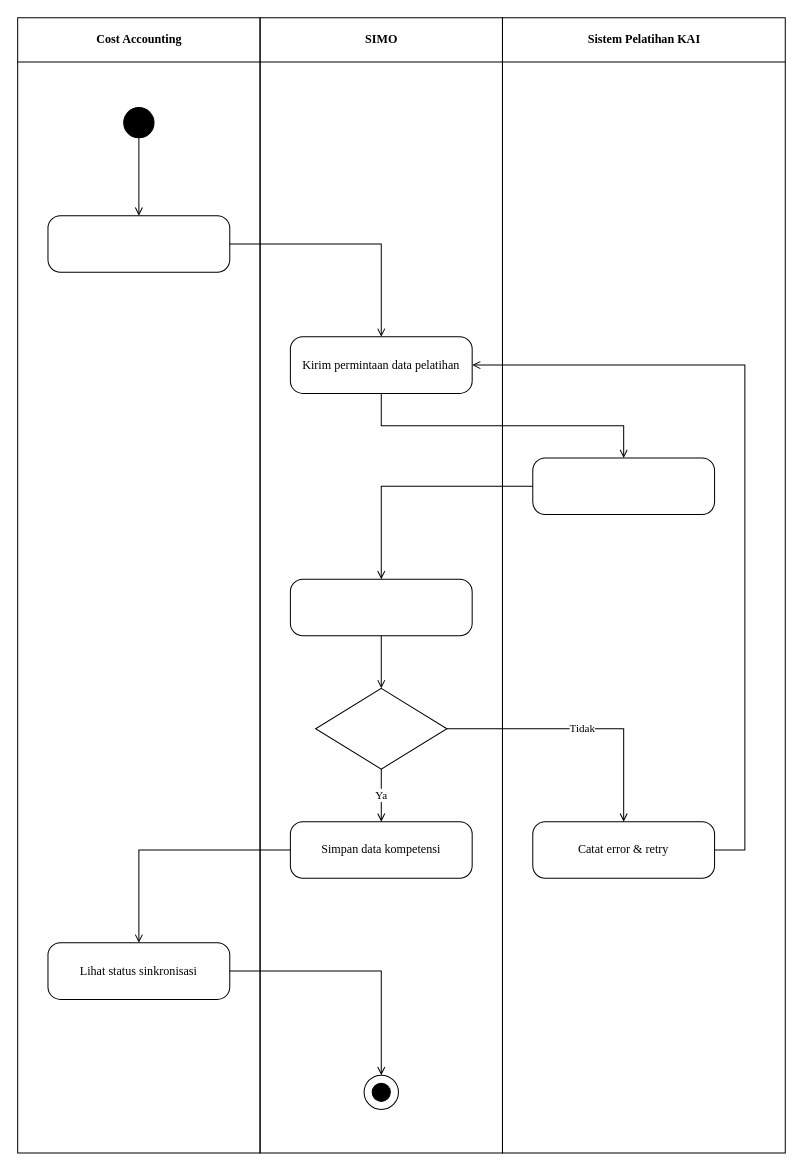
Image size: 803x1171. Some labels were removed from this diagram. Each missing label, with the centre of its shape:
"Data valid?" belongs at (x=381, y=728).
"Jalankan sinkronisasi pelatihan" belongs at (x=138, y=243).
"Kirim data sertifikasi & kompetensi" belongs at (x=623, y=486).
"Validasi & petakan kompetensi" belongs at (x=380, y=607).
